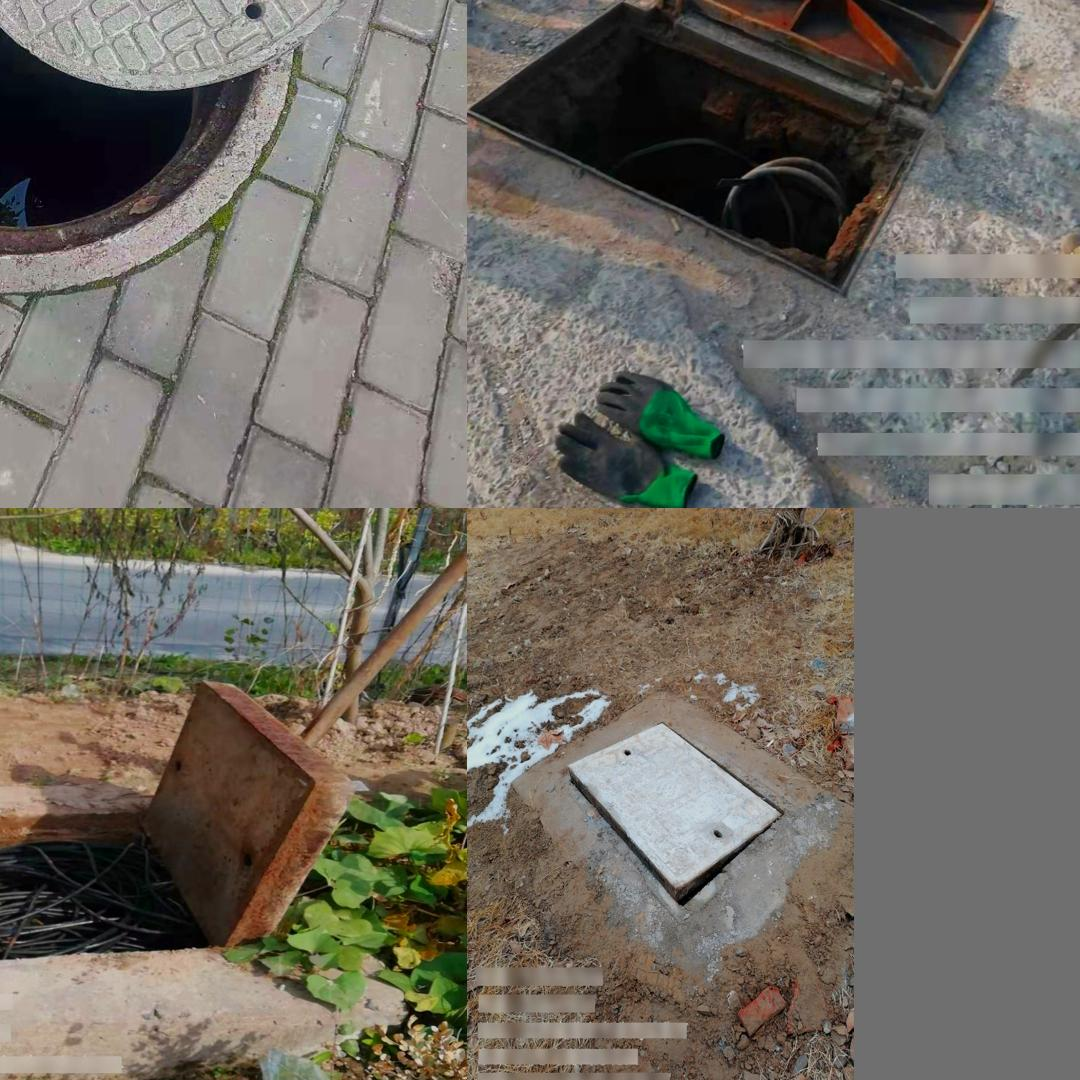uncovered: (467, 0, 984, 298), (0, 0, 408, 274), (0, 676, 375, 971), (562, 719, 795, 920)
